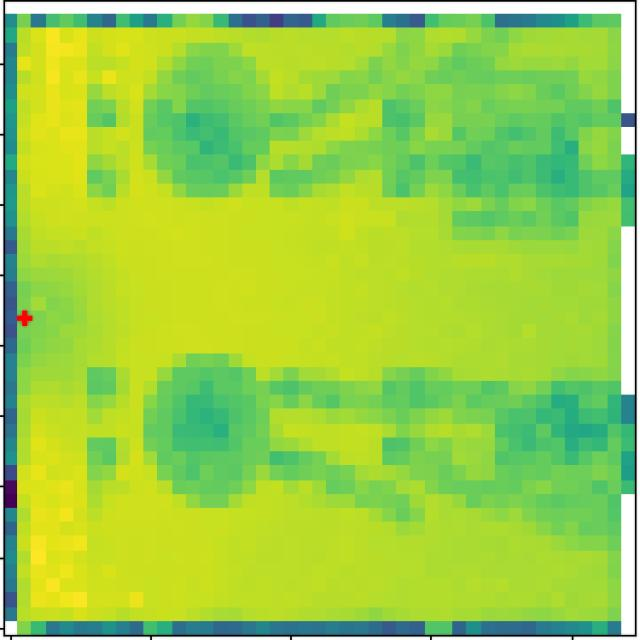Concrete: (142, 38, 272, 202)
Glass: (413, 322, 602, 571)
Metal: (120, 304, 294, 556)
Wood: (411, 44, 596, 252)
